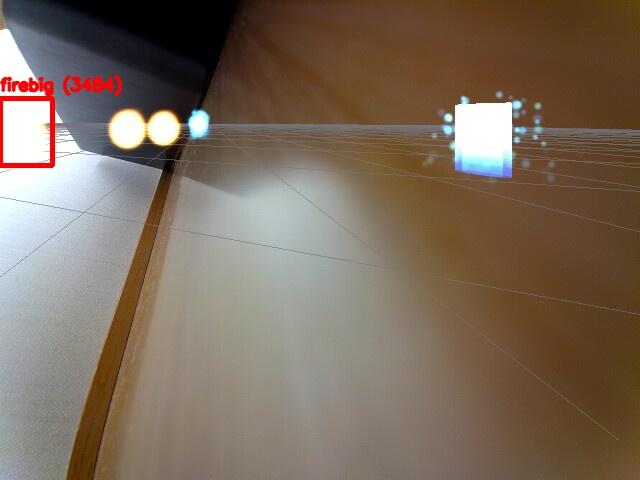firebig: (0, 98, 52, 165)
